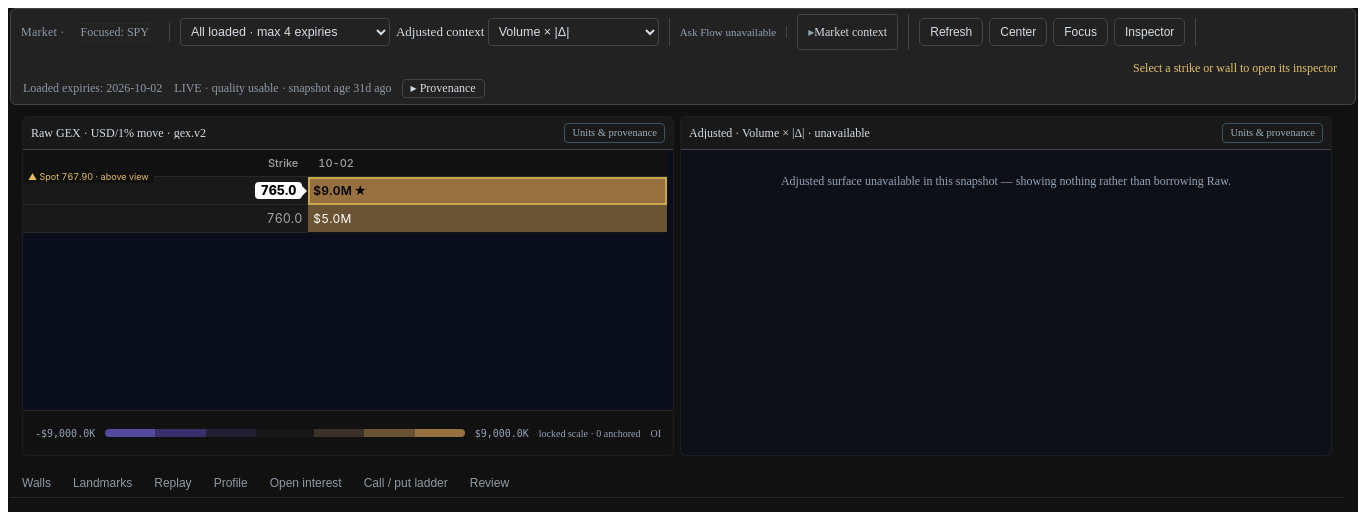
Test case: shared stock choice removes only the duplicate input, retaining comparison and source limits
Click the button "Market context".
click(848, 32)  # box [797, 14, 898, 50]
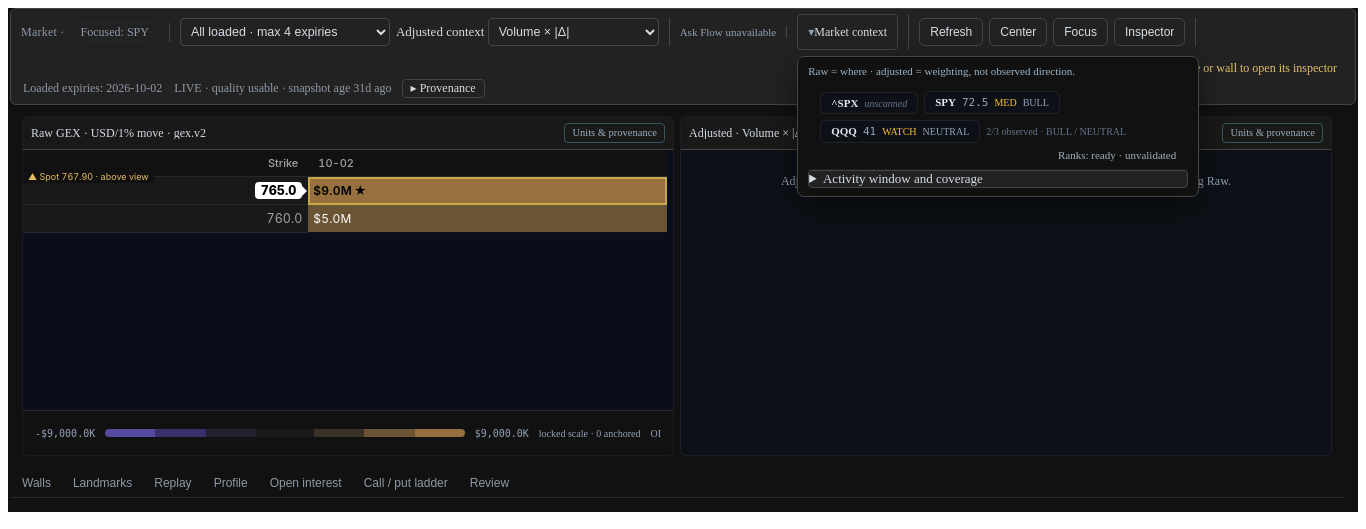
Check: the dropdown named "Market view expiry scope" is shown, box [180, 18, 390, 46]
Check: the element with test id "triad-context-SPX" is shown, box [820, 92, 918, 114]
Check: the text with test id "triad-coverage-note" shows "2/3 observed", box [986, 126, 1126, 137]
